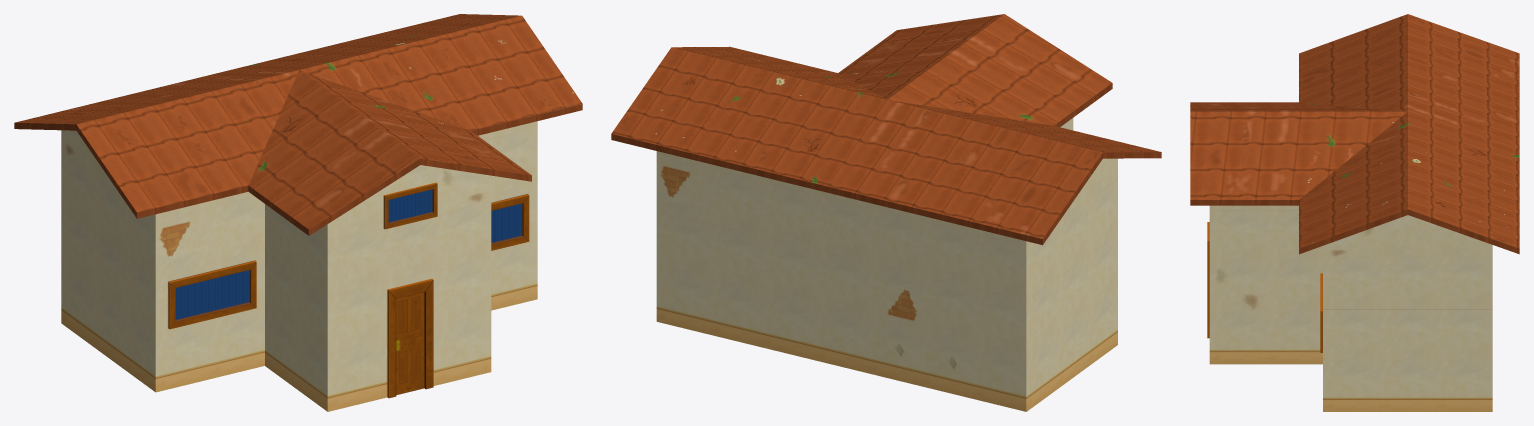
Rendered from Houses_SuburbanHouse4.fbx.
3 renders of one model, left to right at view 1: azimuth 30°, elevation 25°; view 2: azimuth 150°, elevation 25°; view 3: azimuth 270°, elevation 25°, orthographic. The views are drawn at different scales.
Parts seen in each view (by area): view 1: House4; view 2: House4; view 3: House4.
Boxes of the visible parts, x1,y1,x2,y2 form: House4: [14, 14, 582, 411]; House4: [611, 14, 1161, 411]; House4: [1190, 14, 1519, 411].
Size of the model in its own units: 757 by 392 by 540.
1 material, 1 textured.
